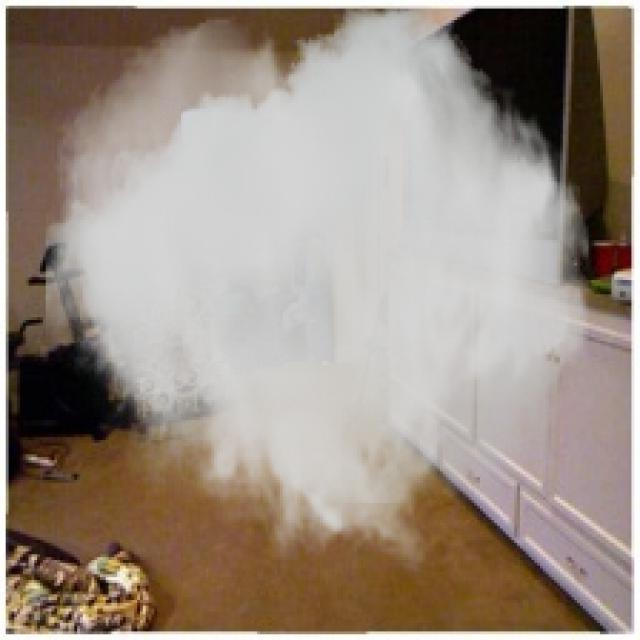smoke: (46, 6, 597, 574)
